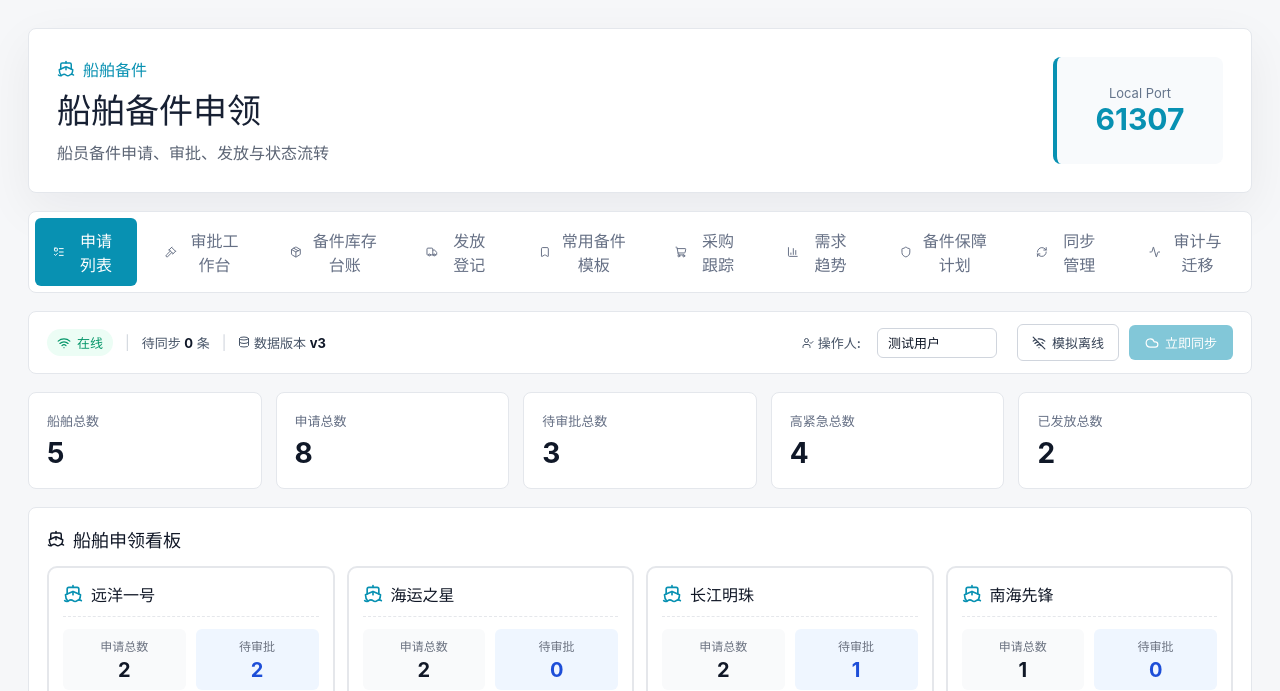
Test: App 冒烟测试 › 点击采购跟踪标签应切换到采购页面
The image size is (1280, 691).
Click the button "采购跟踪" at (708, 252), box [657,218,759,286]
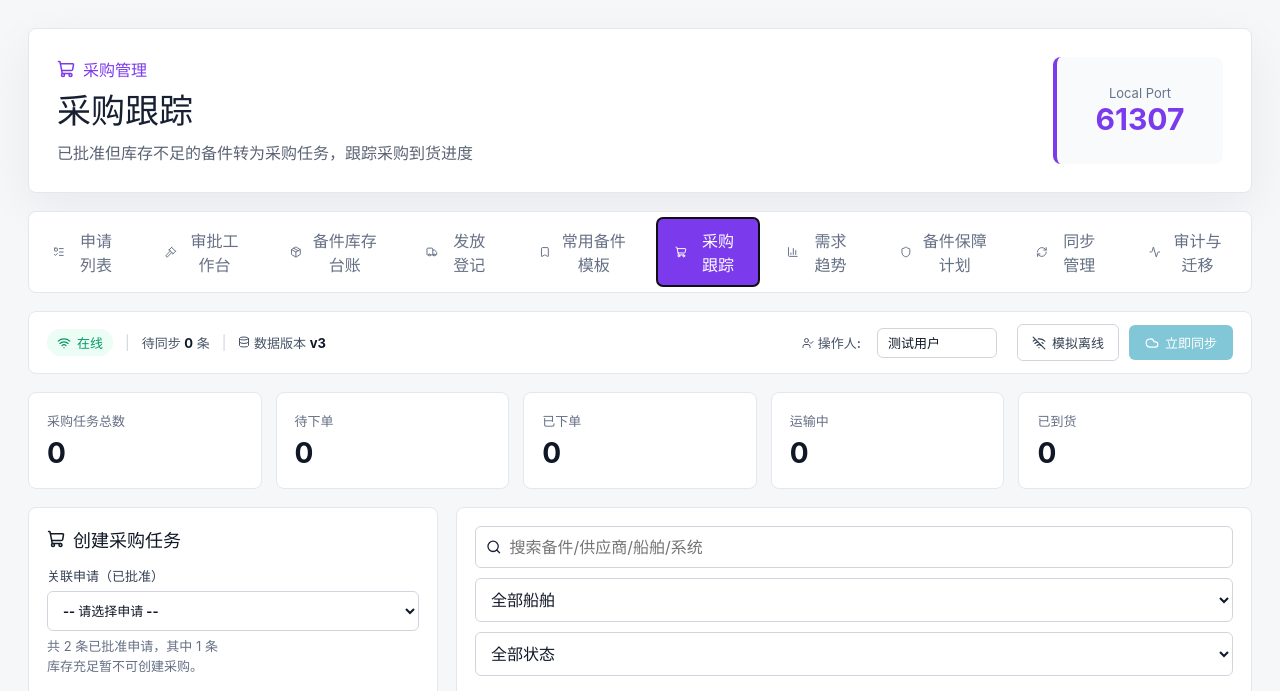
expect the heading "采购跟踪" is shown: met, box [57,90,193,131]
